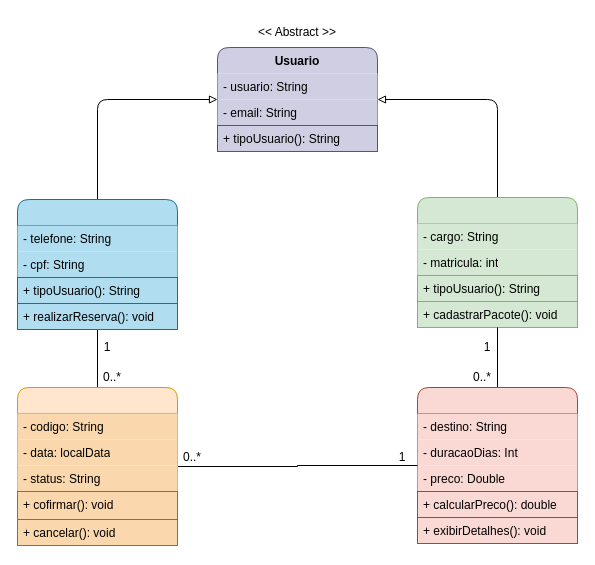
Image size: 595x565. Some labels were removed from this diagram. The shapes that lost their labels are listed below. From the top down, each one's box as (x1, y1, x2, y2) in pixels, then its label:
(16, 198, 178, 330): Cliente
(416, 196, 578, 328): Funcionario
(16, 386, 178, 546): Reserva
(416, 386, 578, 544): PacoteViagem
